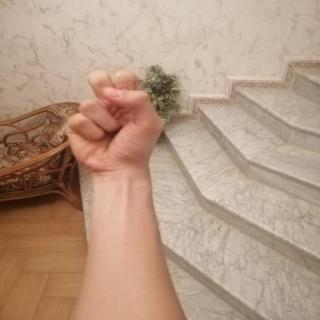QAAF: (50, 63, 178, 179)
